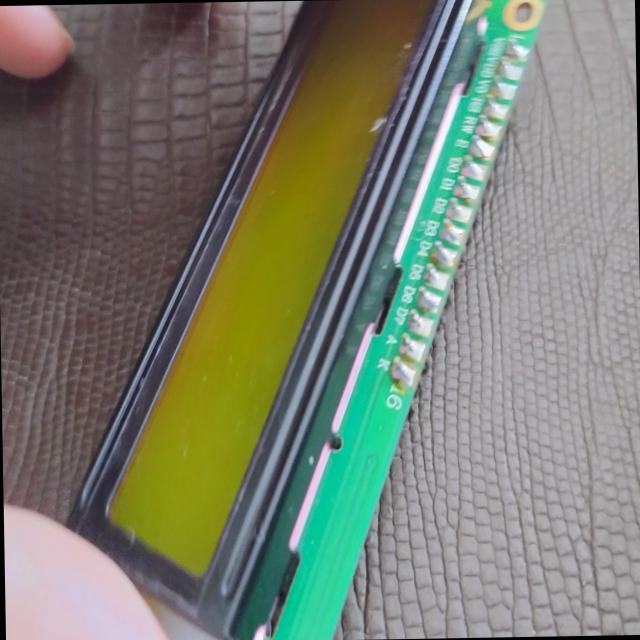lcd: (53, 0, 555, 640)
